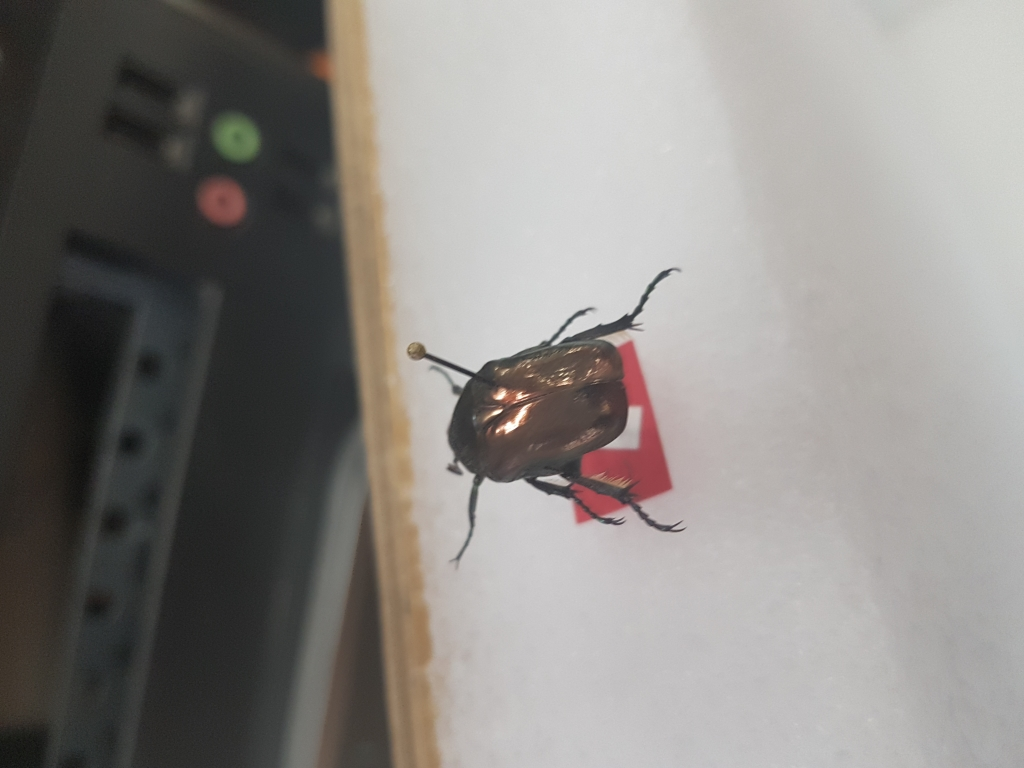Protaetia_besucheti: (419, 254, 702, 580)
